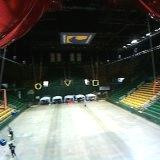Orange_Circle_GShape: (152, 81, 160, 98)
Orange_Square_GShape: (0, 89, 6, 110)
Yellow_Circle_GShape: (34, 82, 42, 90)
Yellow_Square_GShape: (92, 79, 99, 87)
Yellow_Triangle_Gshape: (64, 80, 71, 86)
